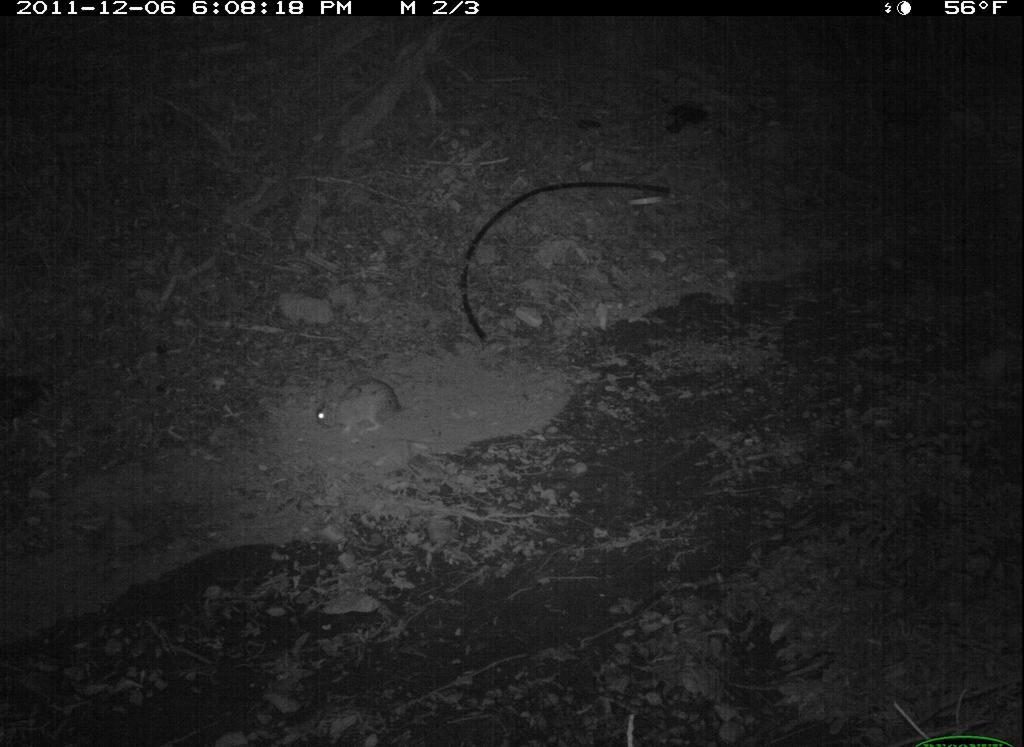rabbit: (303, 370, 415, 441)
